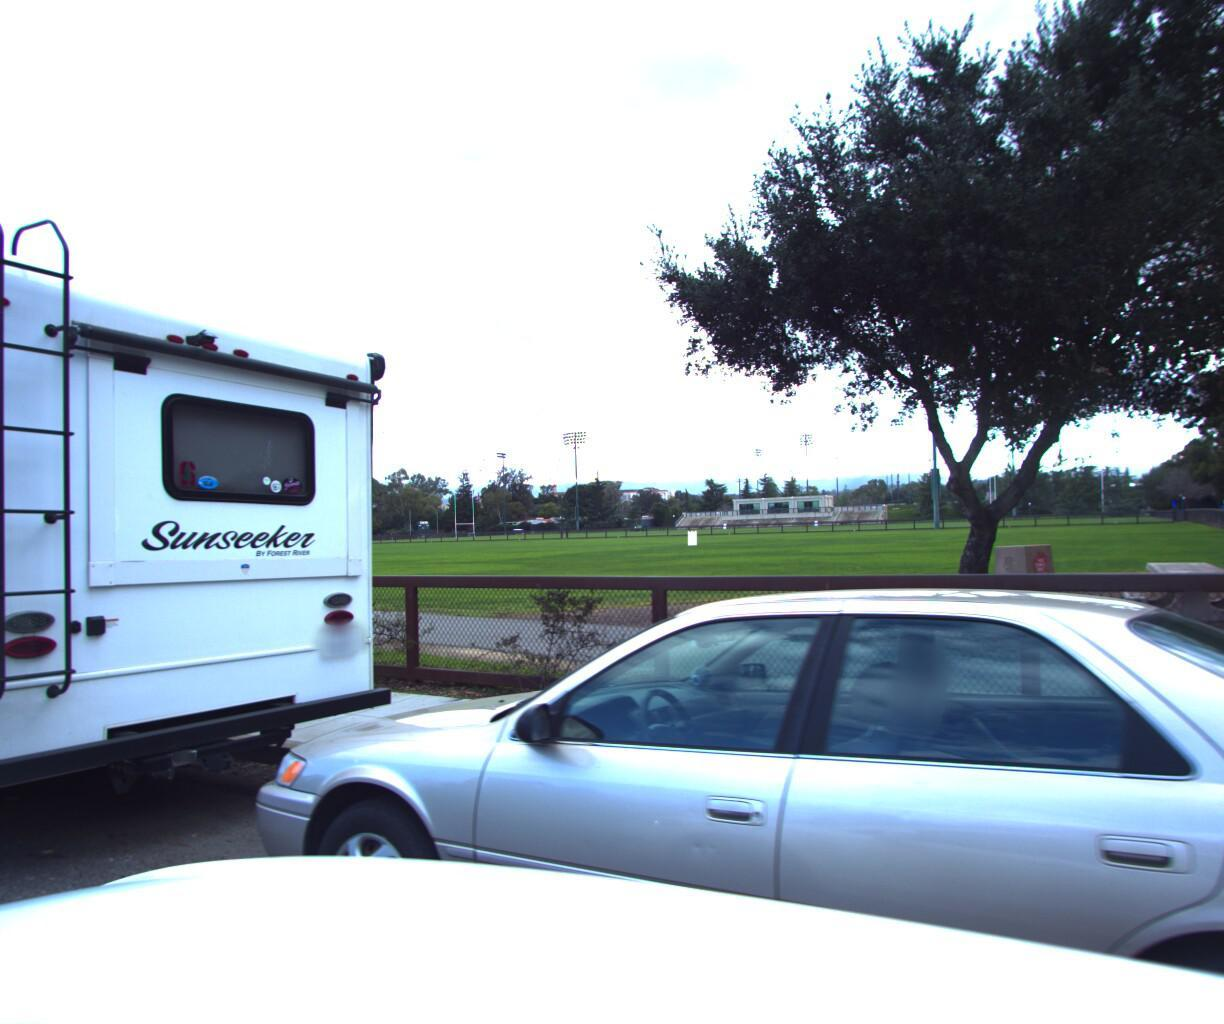car: (202, 568, 1224, 1024)
other_vehicle: (0, 187, 443, 945)
